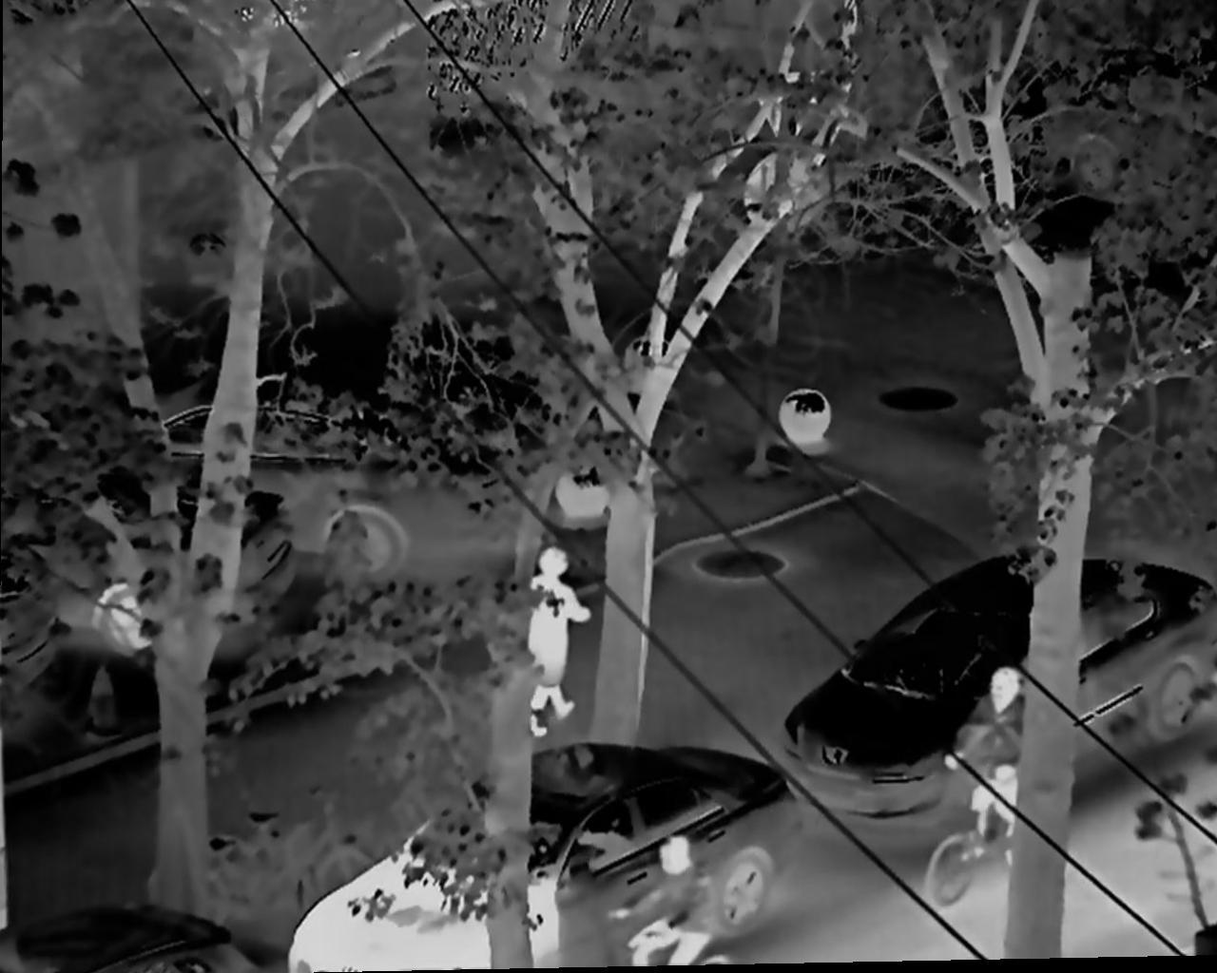person: (606, 830, 721, 973), (939, 666, 1021, 864), (531, 545, 589, 740)
